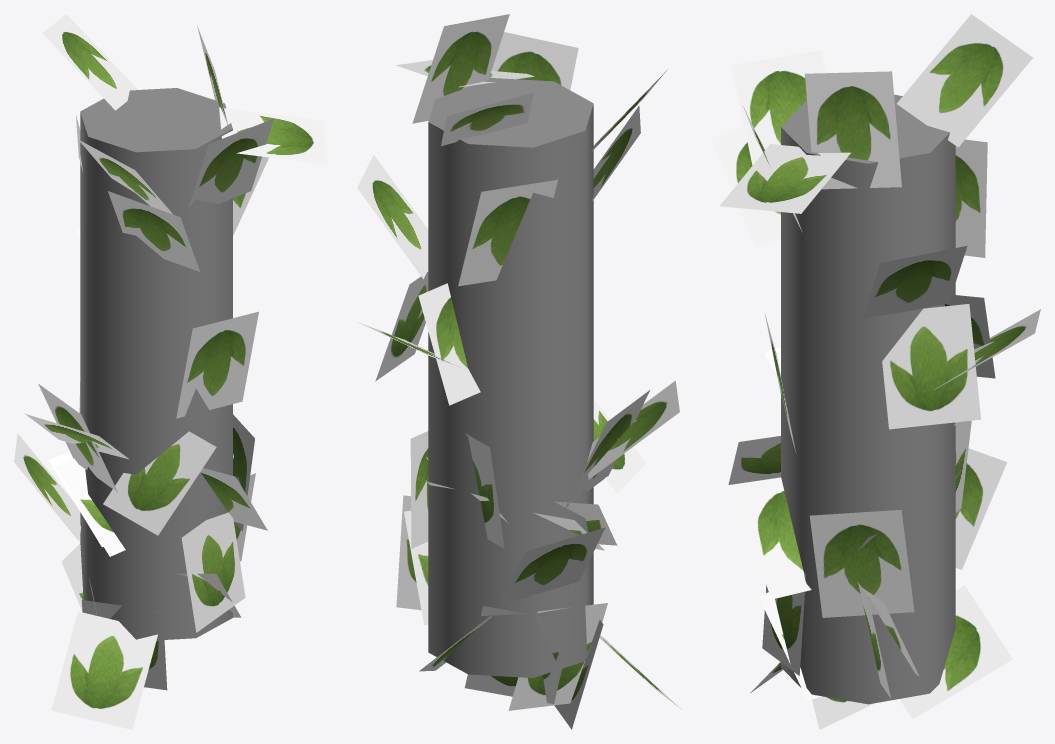
File: SmallCyllinderBush.fbx
3 views of the same model, side by side, from view 1: azimuth 30°, elevation 25°; view 2: azimuth 150°, elevation 25°; view 3: azimuth 270°, elevation 25° (orthographic). The views are drawn at different scales.
Visible parts, largest first — view 1: Object022; view 2: Object022; view 3: Object022.
Part boxes in pixels (x1,y1,x2,y2): Object022: (14, 14, 327, 729); Object022: (357, 14, 681, 729); Object022: (711, 14, 1040, 729).
Bounding box in the file's own units: 9.26 × 19.73 × 8.52.
